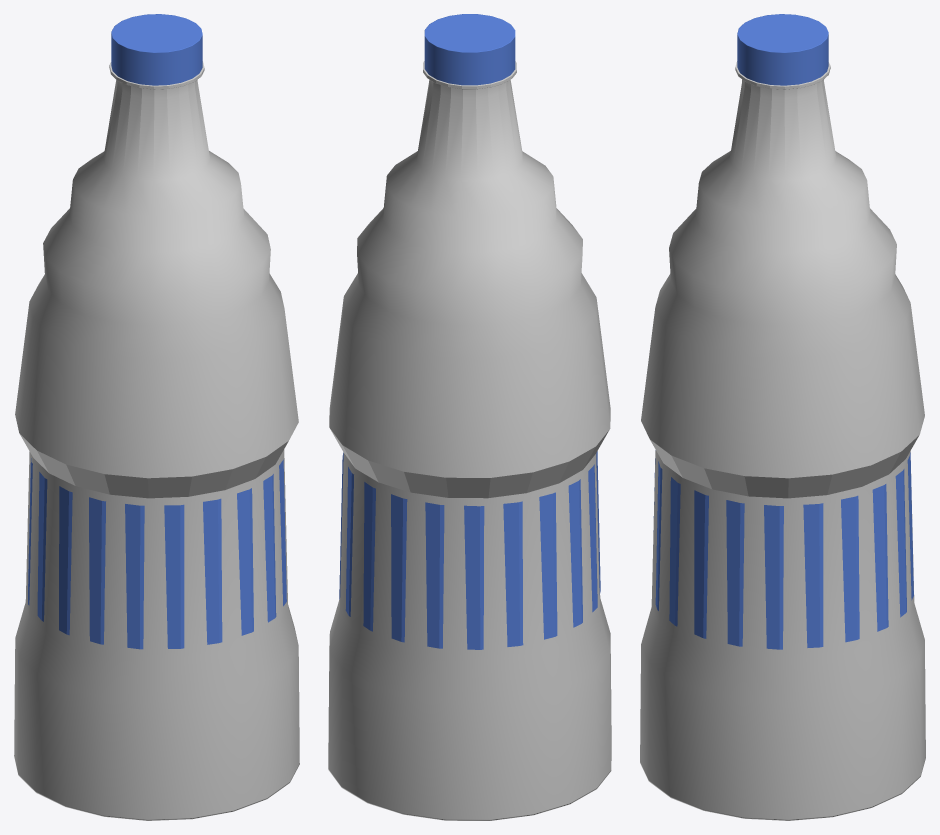
File: Bottle_3.fbx
The picture shows the model from 3 angles, left to right: view 1: azimuth 30°, elevation 25°; view 2: azimuth 150°, elevation 25°; view 3: azimuth 270°, elevation 25°; orthographic projection.
Visible parts, largest first — view 1: polySurface3, bottle_name, cap; view 2: polySurface3, bottle_name, cap; view 3: polySurface3, bottle_name, cap.
Boxes of the visible parts, x1,y1,x2,y2 form: polySurface3: [14, 61, 299, 820]; bottle_name: [28, 458, 286, 649]; cap: [111, 14, 202, 85]; polySurface3: [328, 61, 611, 820]; bottle_name: [339, 451, 600, 649]; cap: [424, 14, 515, 85]; polySurface3: [640, 61, 925, 820]; bottle_name: [653, 450, 913, 649]; cap: [737, 14, 828, 85].
Size of the model in its own units: 0.3518 by 0.9869 by 0.3518.
